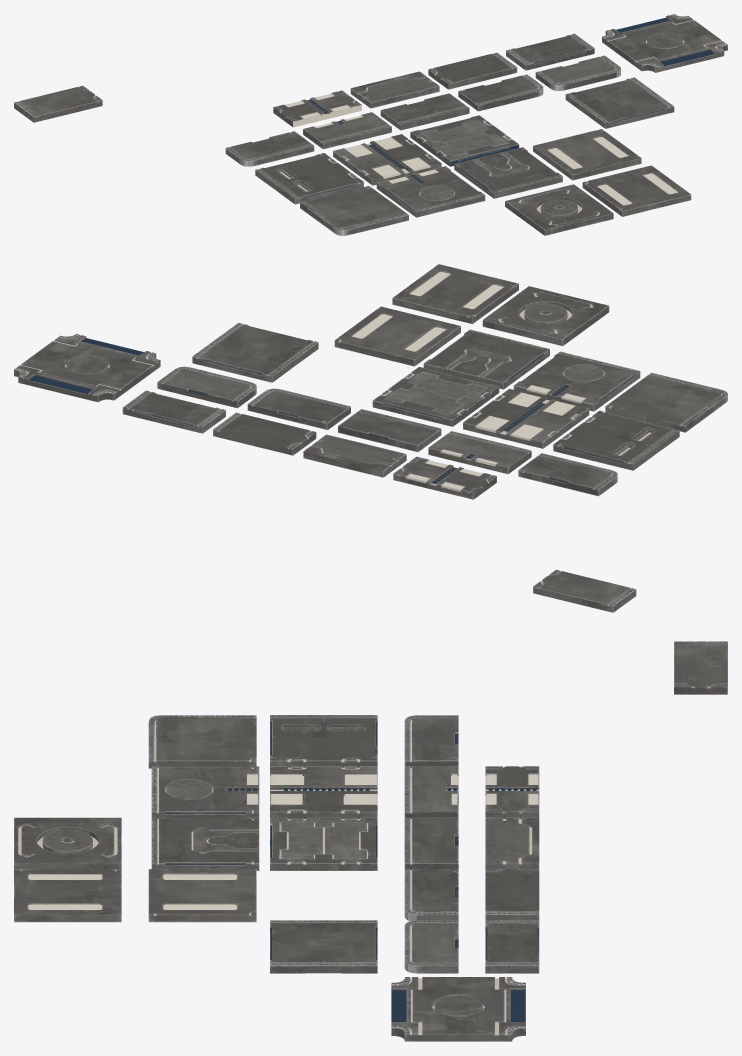
The model's file is floor-modular.glb.
3 renders of one model, top to bottom at view 1: azimuth 30°, elevation 25°; view 2: azimuth 150°, elevation 25°; view 3: azimuth 270°, elevation 25°, orthographic. The views are drawn at different scales.
Visible parts, largest first — view 1: Cube.000__0; view 2: Cube.000__0; view 3: Cube.000__0.
Boxes of the visible parts, <box> form: Cube.000__0: <box>14,14,727,235</box>; Cube.000__0: <box>14,264,727,612</box>; Cube.000__0: <box>14,641,727,1041</box>.
Bounding box in the file's own units: 6.9 × 0.0657 × 5.3.
1 material, 1 textured.
